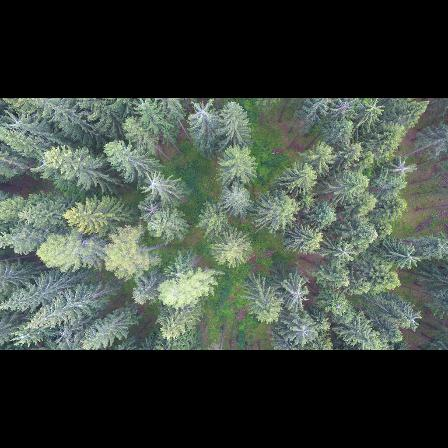Sick: (283, 278, 312, 311), (284, 319, 318, 347), (185, 98, 218, 124), (139, 198, 166, 224), (389, 156, 416, 182), (330, 237, 357, 262), (140, 169, 164, 196), (333, 98, 360, 118)
